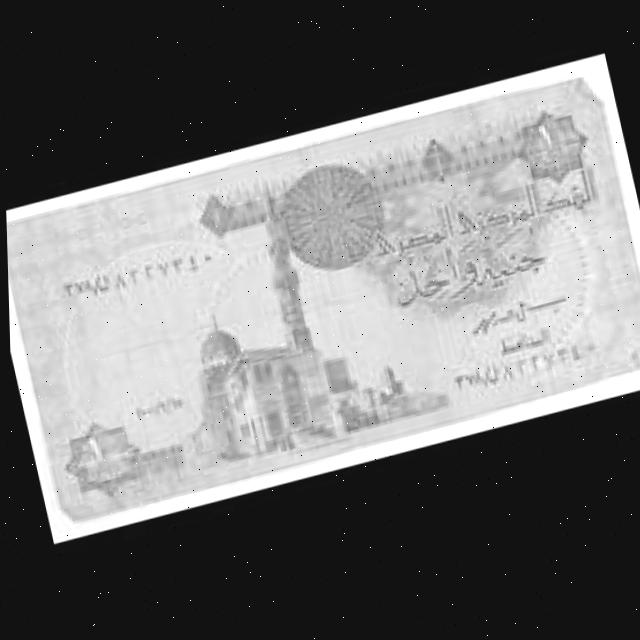banknote: (2, 66, 640, 531)
